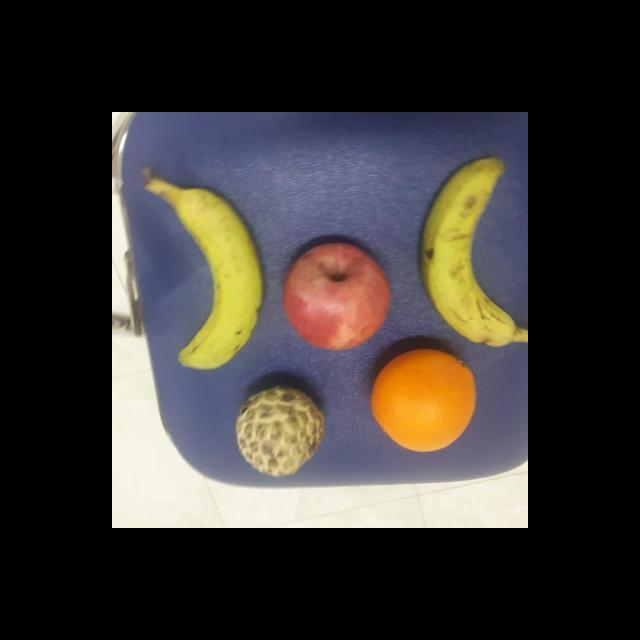Sakya fruit: (234, 382, 328, 478)
apple: (282, 240, 393, 352)
banana: (421, 157, 526, 350), (162, 180, 266, 370)
orange: (367, 347, 478, 456)
